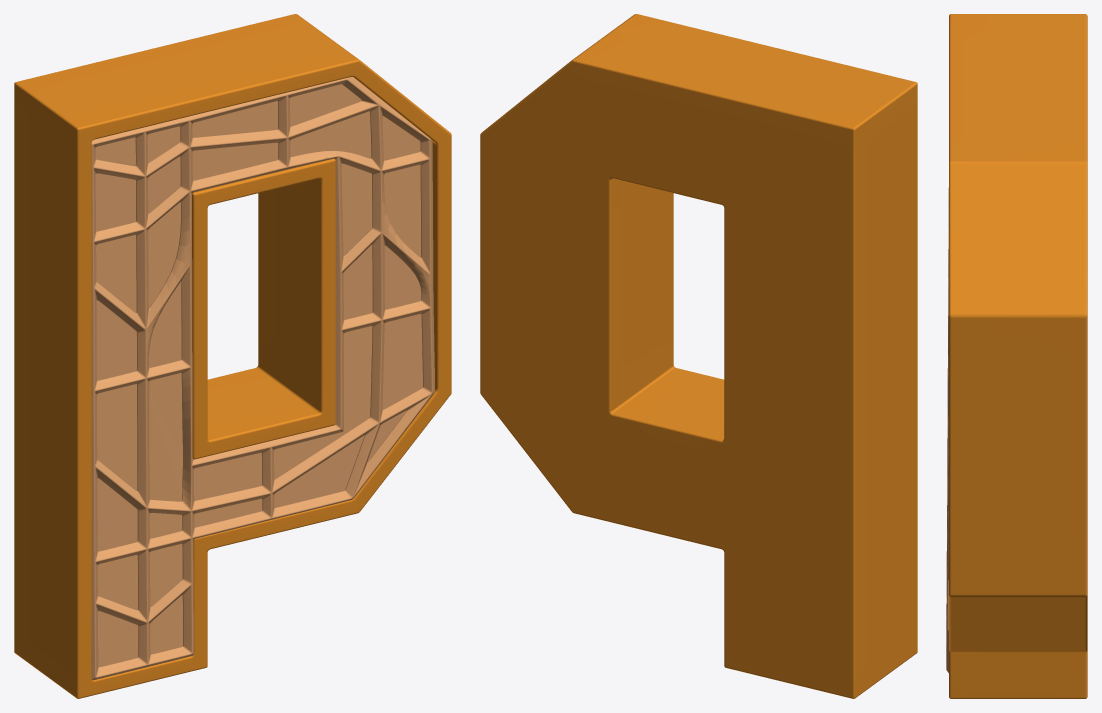
The model's file is P_nuevo.glb.
3 views of the same model, side by side, from view 1: azimuth 30°, elevation 25°; view 2: azimuth 150°, elevation 25°; view 3: azimuth 270°, elevation 25° (orthographic). The views are drawn at different scales.
Visible parts, largest first — view 1: Text.016, Plane.018, Plane.017; view 2: Text.016; view 3: Text.016, Plane.017.
Part boxes in pixels (bbox=[...]): Text.016: bbox=[14, 14, 451, 698]; Plane.018: bbox=[95, 84, 422, 667]; Plane.017: bbox=[91, 77, 434, 680]; Text.016: bbox=[480, 14, 917, 698]; Text.016: bbox=[949, 14, 1087, 698]; Plane.017: bbox=[946, 187, 948, 672].
Size of the model in its own units: 2.34 by 3.41 by 0.7062.
